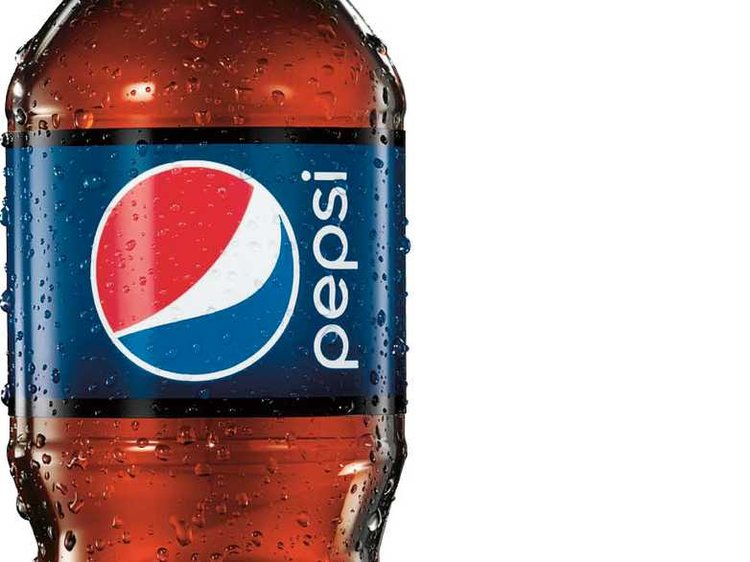pepsi: (85, 157, 300, 381), (88, 157, 300, 381), (85, 164, 300, 381)
